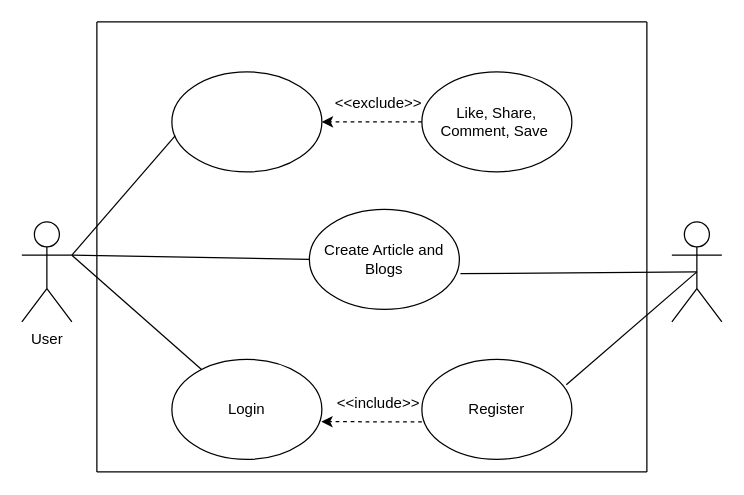
The diagram is 744 pixels wide and 495 high, and some of its shapes have lost their labels. The centre of each missing label's shape, as x and y in pixels:
"Admin" goes at (696,271).
"View Articles and Blogs" goes at (246,121).
